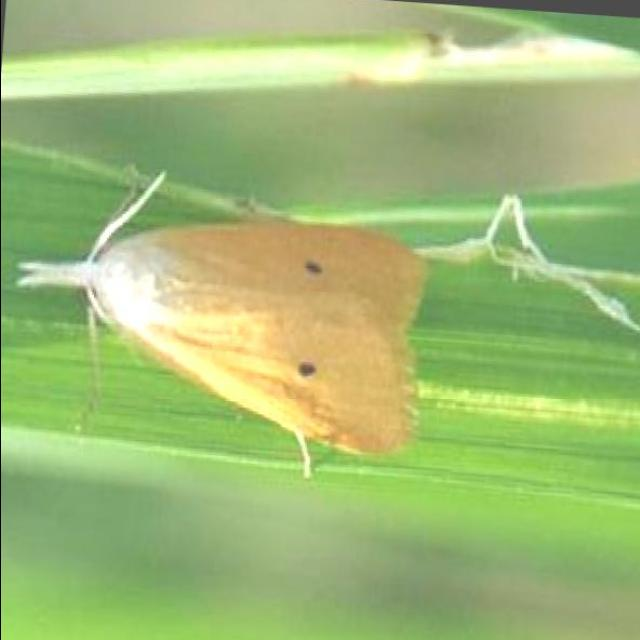stem borer: (17, 173, 423, 478)
